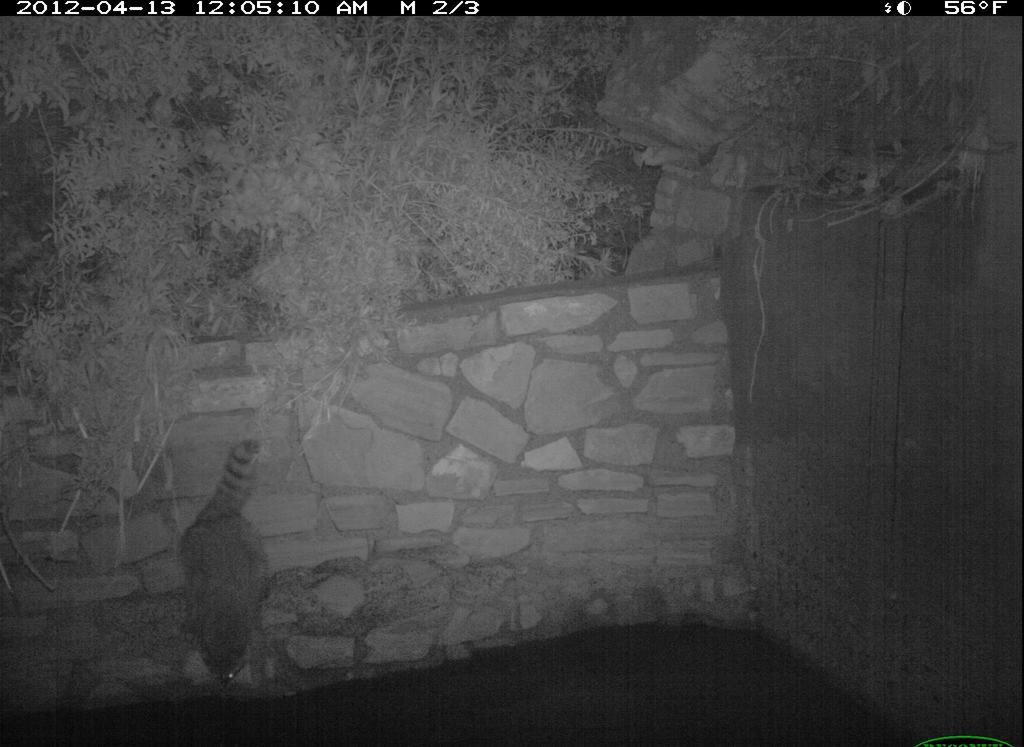raccoon: (168, 432, 286, 694)
